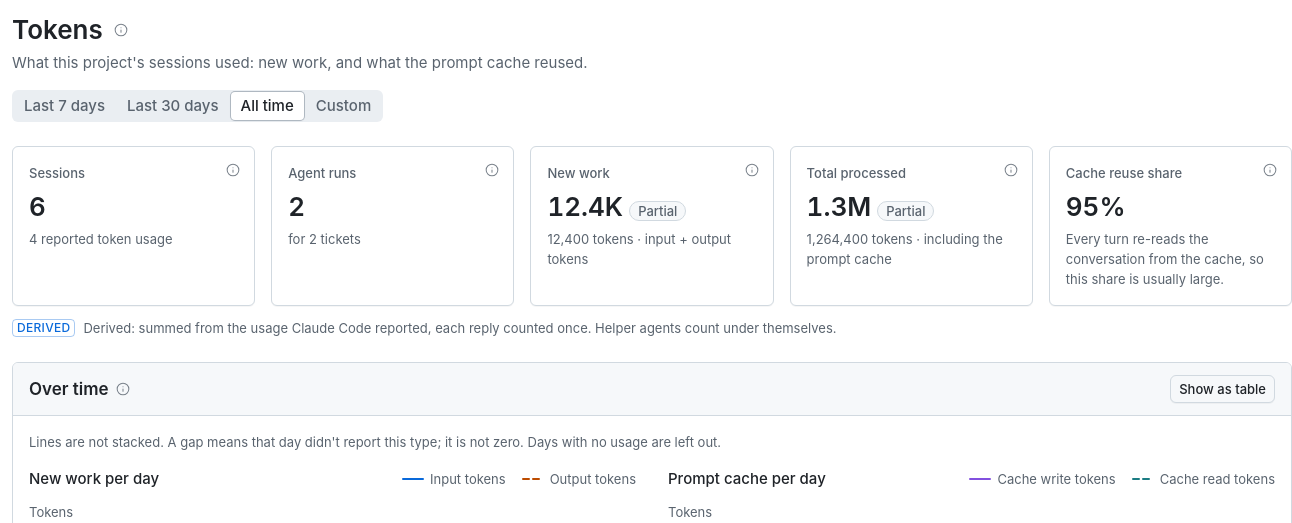
Test: TokensPage (R-F) › draws two separate charts and offers a day table; undated records are counted
Click the button "Show as table" at (1223, 389), box [1170,375,1275,403]
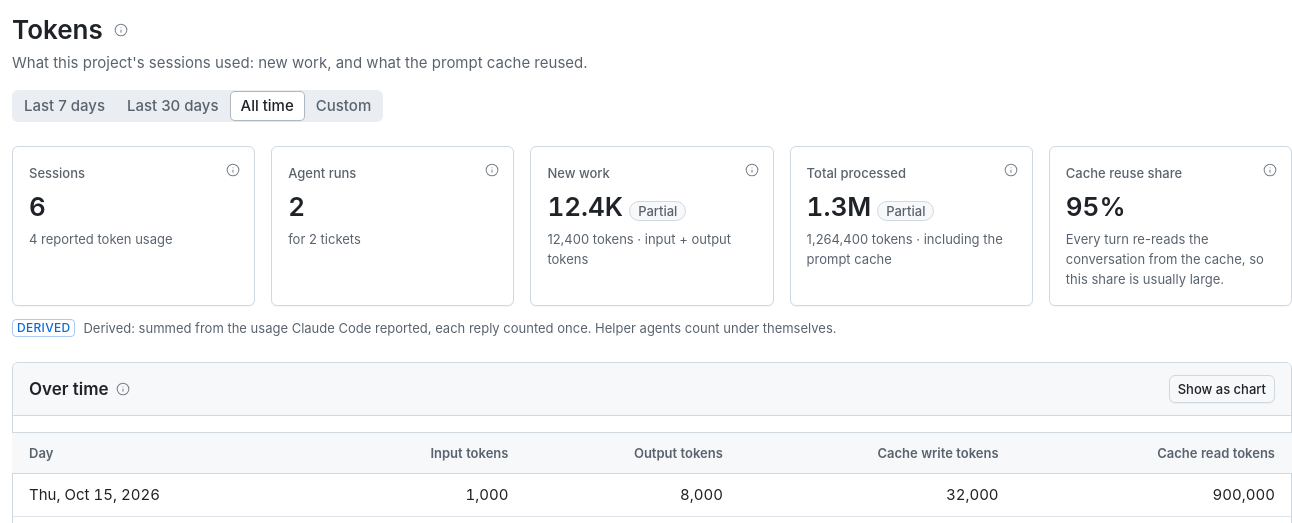
Expected: the element showing "900,000" is shown, [1213,484,1275,504]
